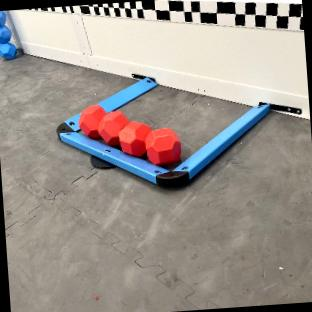V5_BLUE: (0, 10, 15, 58)
V5_RED: (79, 105, 181, 164)
